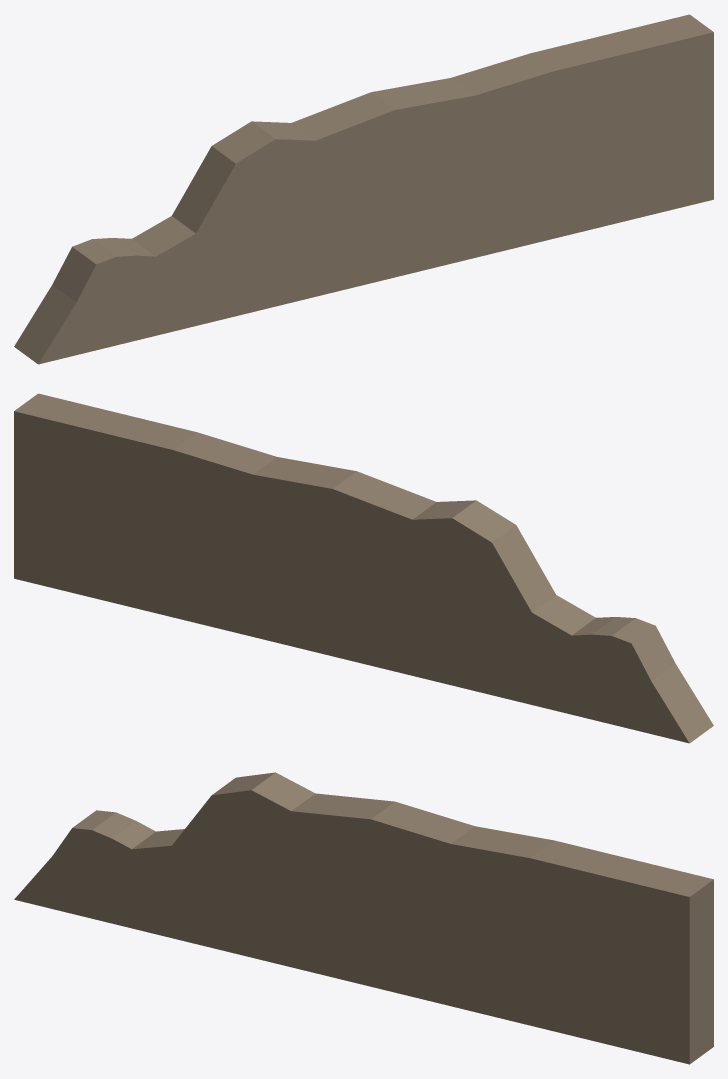
3 renders of one model, top to bottom at view 1: azimuth 30°, elevation 25°; view 2: azimuth 150°, elevation 25°; view 3: azimuth 330°, elevation 25°, orthographic.
Visible parts, largest first — view 1: Cube.026; view 2: Cube.026; view 3: Cube.026.
Part boxes in pixels (x1,y1,x2,y2): Cube.026: (14, 14, 713, 364); Cube.026: (14, 393, 713, 743); Cube.026: (14, 772, 713, 1064).
Size of the model in its own units: 2.12 by 0.502 by 0.1319.
